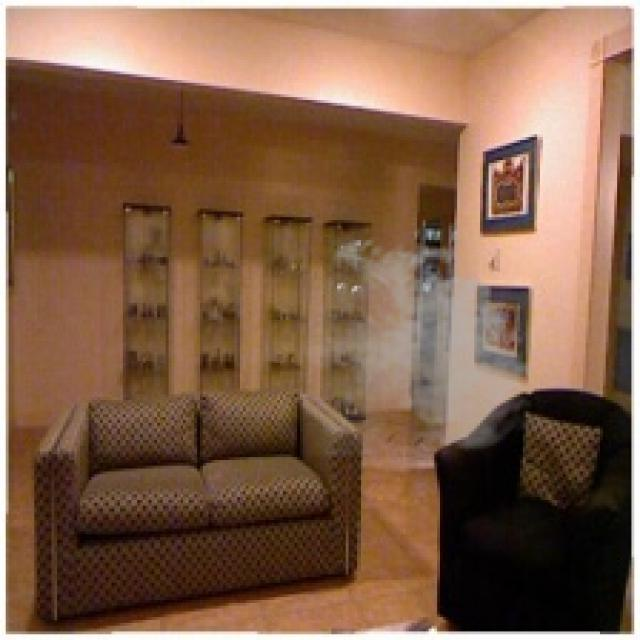smoke: (306, 232, 543, 457)
